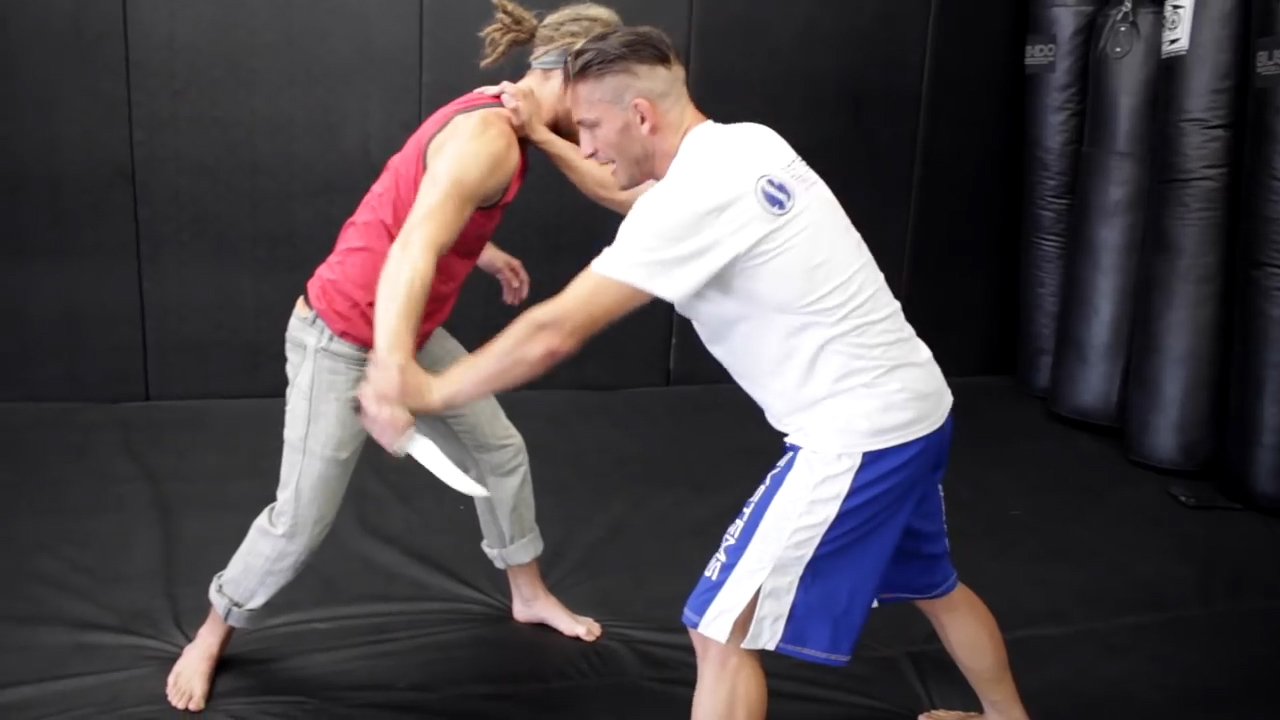knife: (340, 384, 501, 506)
